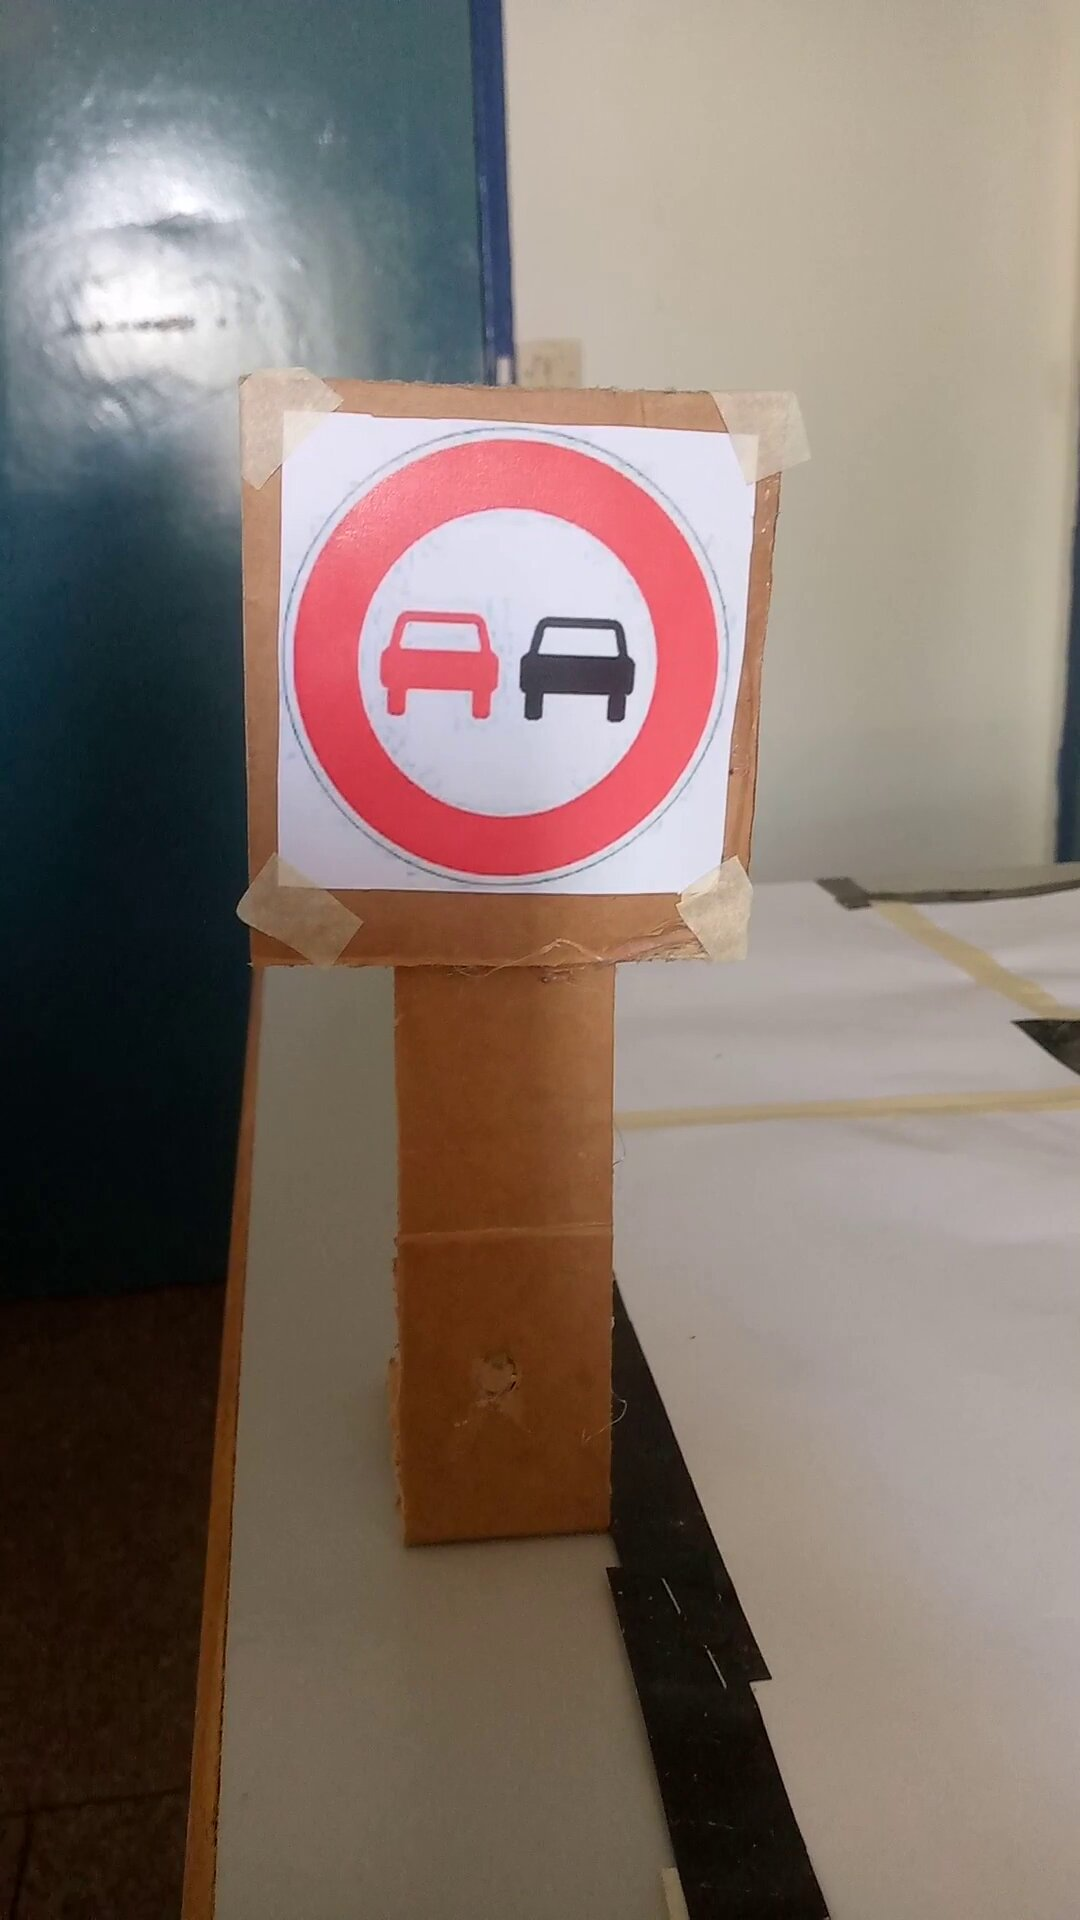panel100: (270, 386, 741, 906)
